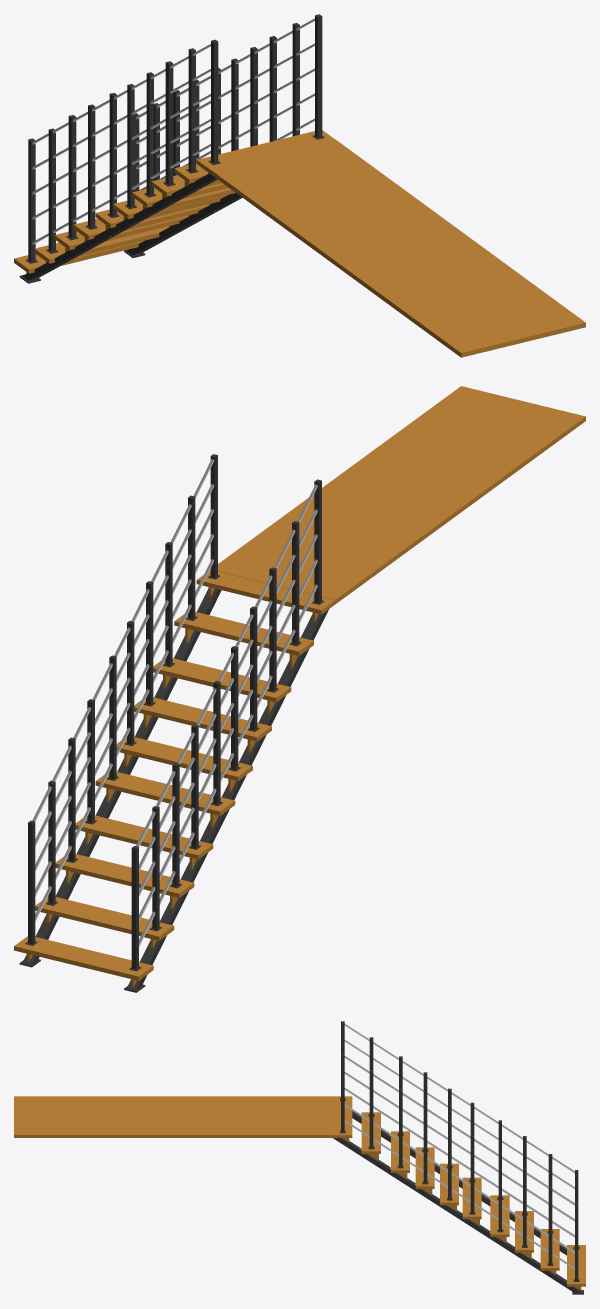
File: 7ce20ffa-47ad-46df-82f7-6fa1f0b6de58.glb
3 renders of one model, top to bottom at view 1: azimuth 30°, elevation 25°; view 2: azimuth 150°, elevation 25°; view 3: azimuth 270°, elevation 25°, orthographic. The views are drawn at different scales.
Visible parts, largest first — view 1: Box20308, Box20347, Box20280, Box20295, Box20329, Box20326, Box20278, Box20279, Box20270, Box20284, Box20317, Box20338 (+23 smaller); view 2: Box20308, Box20347, Box20335, Box20326, Box20324, Box20299, Box20273, Box20328, Box20283, Box20277, Box20289, Box20280 (+30 smaller); view 3: Box20308, Box20347, Box20299, Box20273, Box20328, Box20277, Box20326, Box20280, Box20335, Box20283, Box20289, Box20324 (+11 smaller).
Boxes of the visible parts, x1,y1,x2,y2 form: Box20308: (211, 139, 585, 357); Box20347: (22, 173, 242, 280); Box20280: (196, 130, 334, 174); Box20295: (165, 61, 173, 184); Box20329: (68, 115, 76, 238); Box20326: (34, 226, 169, 263); Box20278: (211, 39, 218, 163); Box20279: (315, 14, 322, 137); Box20270: (188, 48, 195, 171); Box20284: (146, 72, 153, 195); Box20317: (48, 128, 55, 251); Box20338: (28, 138, 35, 261); Box20308: (218, 386, 585, 602); Box20347: (22, 588, 328, 990); Box20335: (14, 936, 153, 980); Box20326: (35, 896, 174, 940); Box20324: (55, 854, 194, 897); Box20299: (95, 772, 235, 815); Box20273: (174, 612, 313, 655); Box20328: (75, 815, 213, 859); Box20283: (116, 737, 252, 780); Box20277: (134, 697, 271, 741); Box20289: (153, 658, 291, 702); Box20280: (196, 570, 336, 614); Box20308: (14, 1096, 334, 1137); Box20347: (333, 1111, 582, 1293); Box20299: (462, 1177, 481, 1219); Box20273: (361, 1112, 380, 1153); Box20328: (490, 1195, 509, 1236); Box20277: (415, 1147, 434, 1188); Box20326: (540, 1229, 559, 1270); Box20280: (333, 1096, 352, 1137); Box20335: (567, 1245, 585, 1286); Box20283: (440, 1163, 458, 1205); Box20289: (391, 1131, 409, 1172); Box20324: (515, 1211, 533, 1252).
Size of the model in its own units: 5412 by 15435 by 33606.
